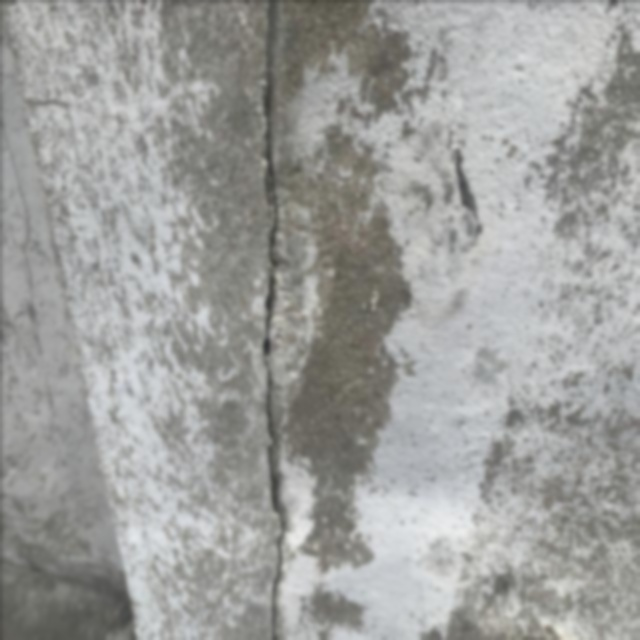SurfaceCrack: (209, 1, 348, 640)
